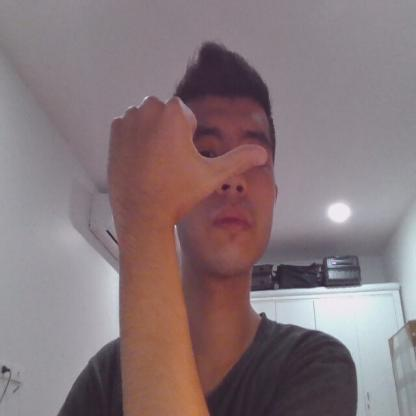left: (107, 95, 270, 227)
